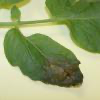Tomato leaf late blight: (3, 25, 88, 91)
